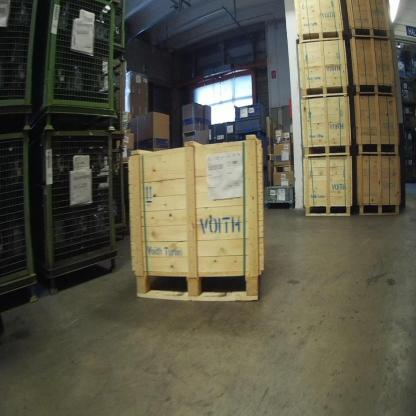pallet: (116, 158, 131, 173), (272, 163, 293, 173), (182, 128, 198, 135), (266, 151, 274, 162), (401, 45, 411, 52)
stillage: (35, 122, 123, 305), (33, 0, 118, 136), (1, 119, 43, 314), (67, 143, 127, 249), (1, 1, 41, 131), (78, 54, 127, 139), (72, 1, 125, 55), (231, 99, 270, 142), (395, 43, 414, 82), (402, 128, 416, 160), (401, 104, 416, 132), (401, 78, 415, 104), (262, 138, 271, 170), (404, 158, 416, 181), (263, 169, 270, 208)
